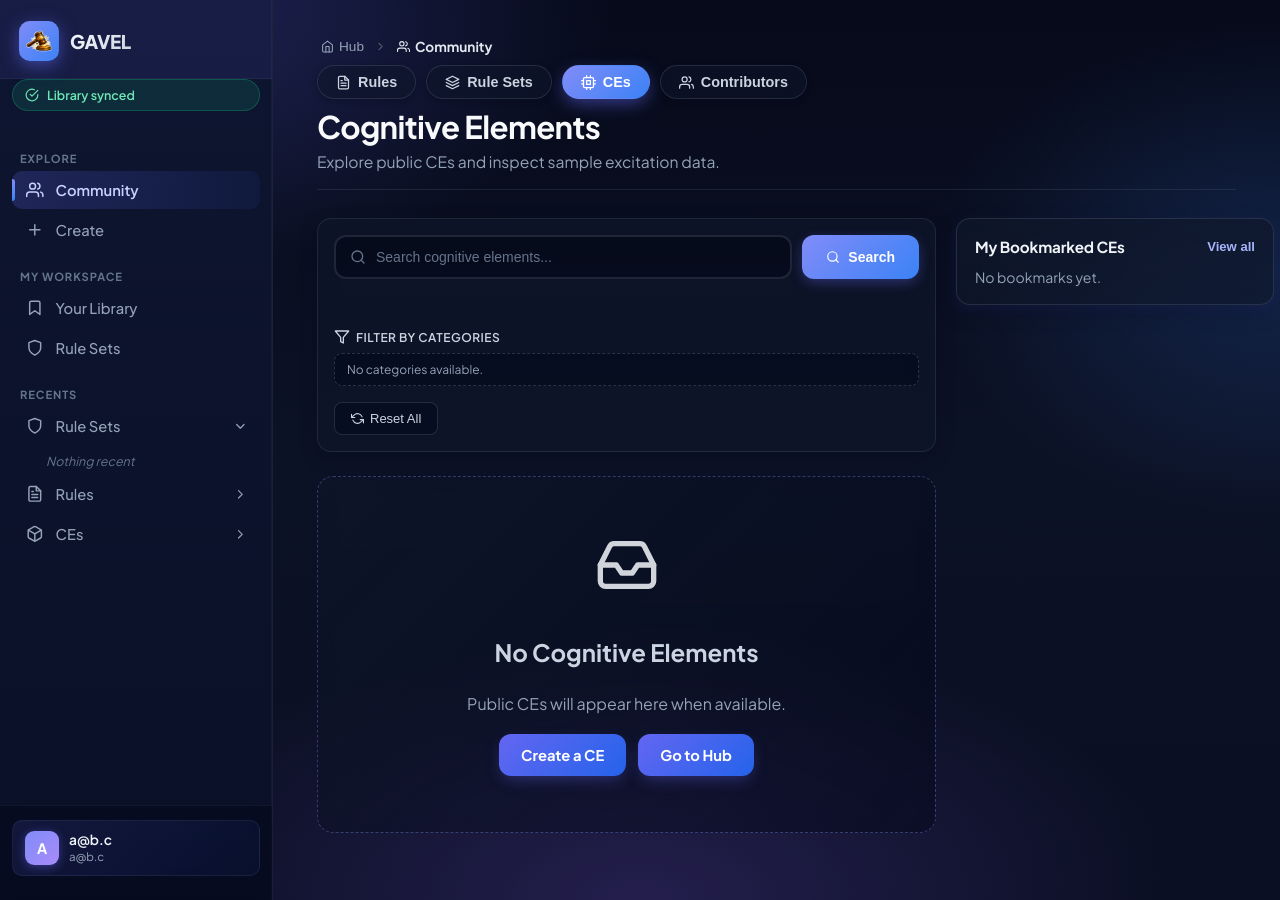
Scenario: BrowseCEs — live search › runs a search as the user types and renders mapped results
The width and height of the screenshot is (1280, 900).
Expected: the heading "No Cognitive Elements" is shown, [494,637,759,667]
In the field with placeholder "Search cognitive elements...": (571, 257) [366,237,776,277], type "privacy"
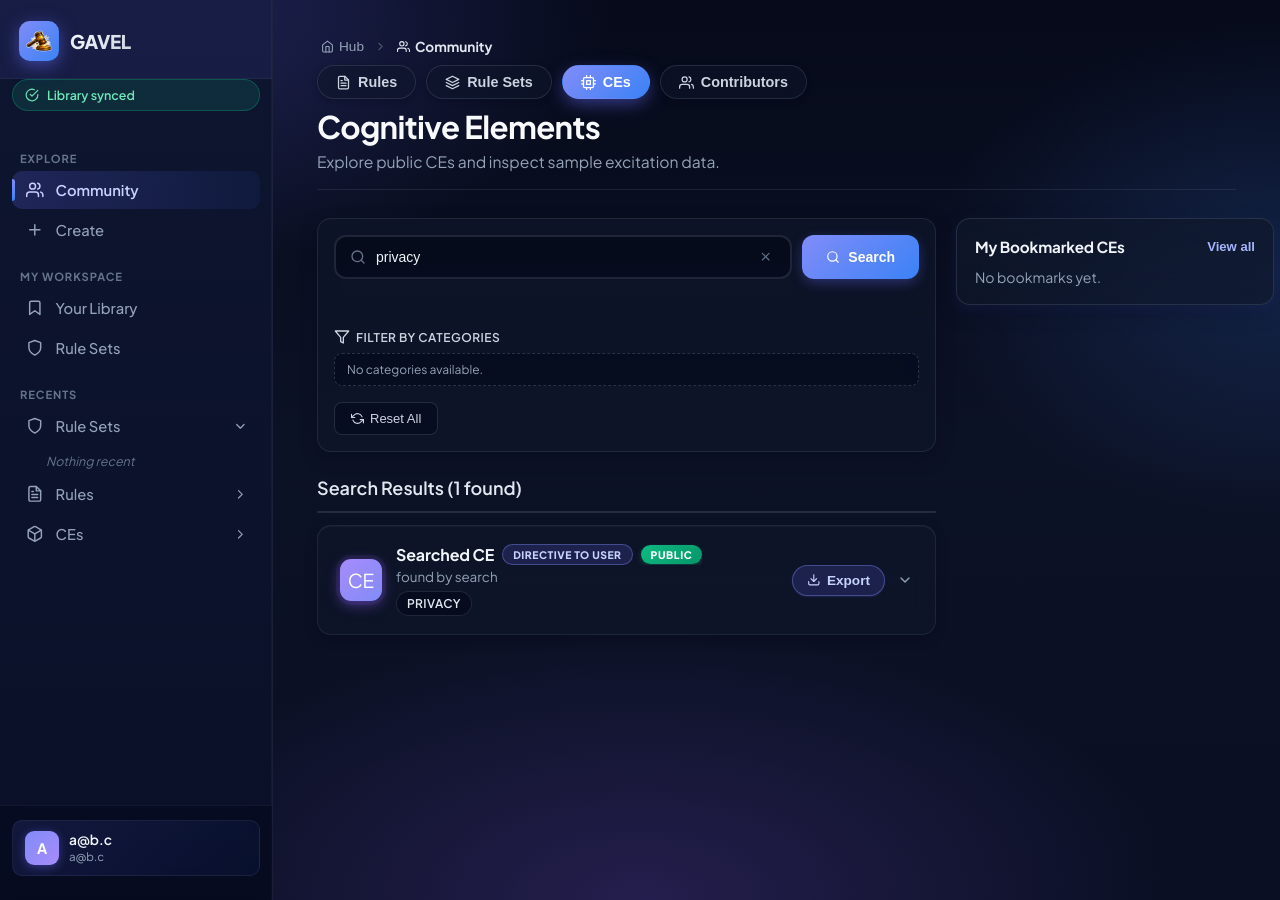
Result: the heading "Searched CE directive to user Public" is shown at [396,544,702,565]
Result: the heading "Search Results (1 found)" is shown at [317,476,522,499]
Result: the text "directive to user" is shown at [502,544,632,565]
